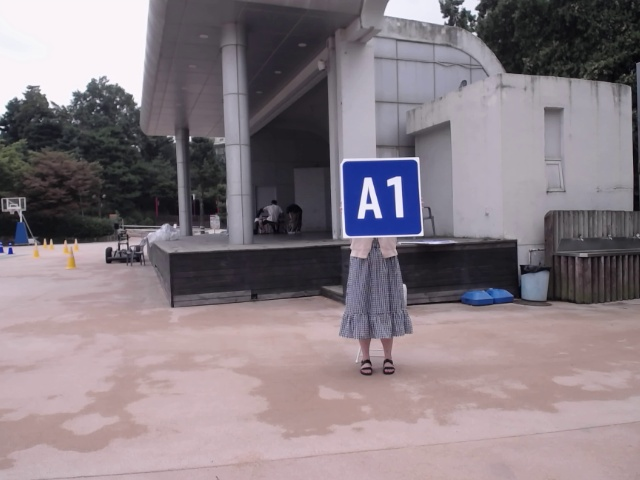delivery_a1: (341, 158, 423, 238)
